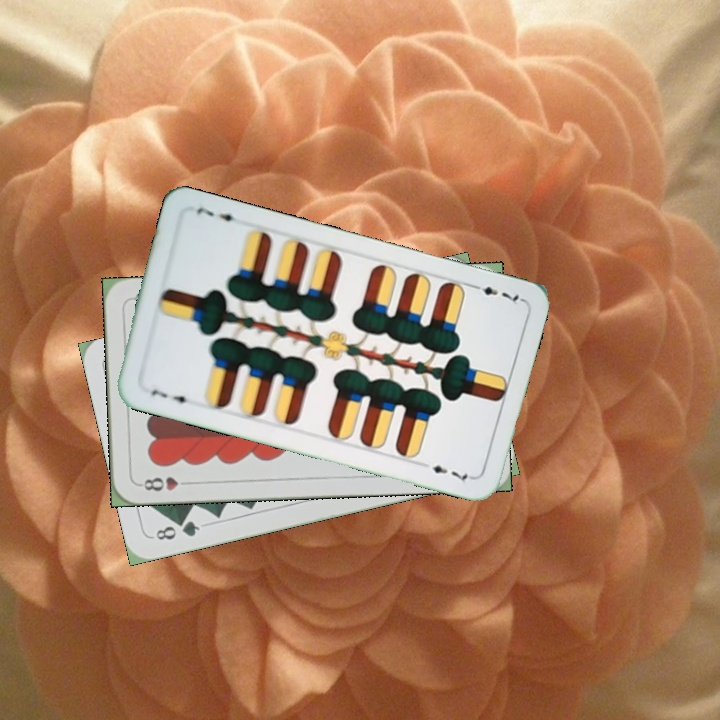E7: (466, 280, 525, 306), (147, 385, 195, 408)
G8: (151, 517, 203, 543)
H8: (135, 473, 194, 493)
